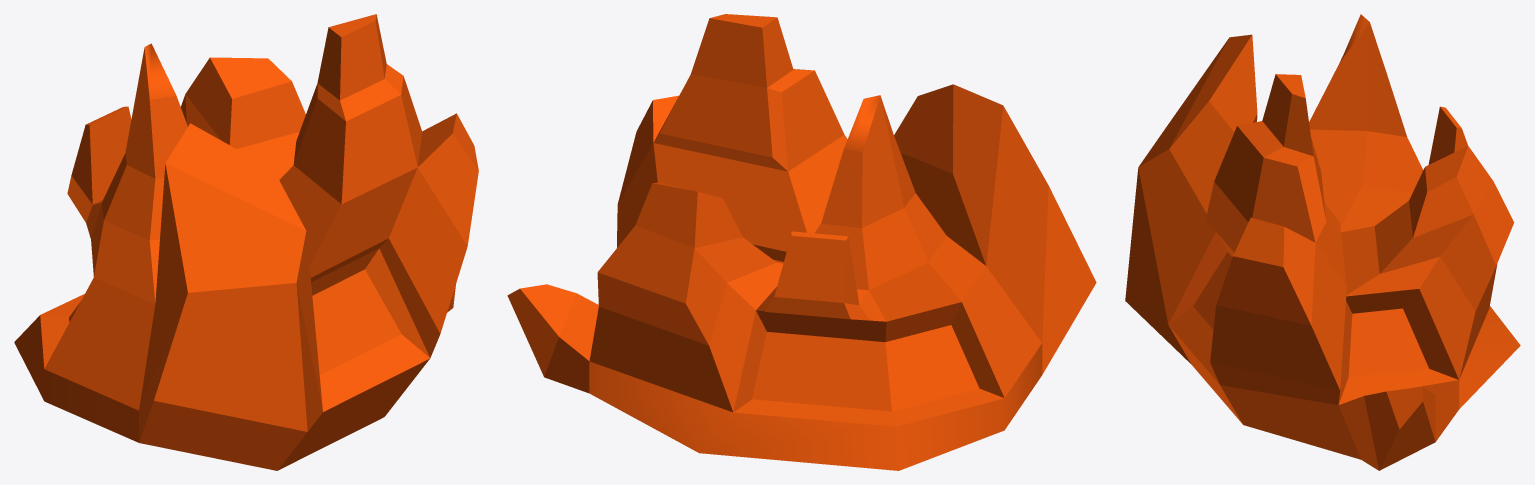
Rendered from fireFlame.FBX.
3 views of the same model, side by side, from view 1: azimuth 30°, elevation 25°; view 2: azimuth 150°, elevation 25°; view 3: azimuth 270°, elevation 25° (orthographic). The views are drawn at different scales.
Visible parts, largest first — view 1: fire; view 2: fire; view 3: fire.
Boxes of the visible parts, x1,y1,x2,y2 form: fire: (14,14,478,470); fire: (507,14,1096,470); fire: (1125,14,1520,470).
Size of the model in its own units: 38.3 by 30.15 by 31.82.
